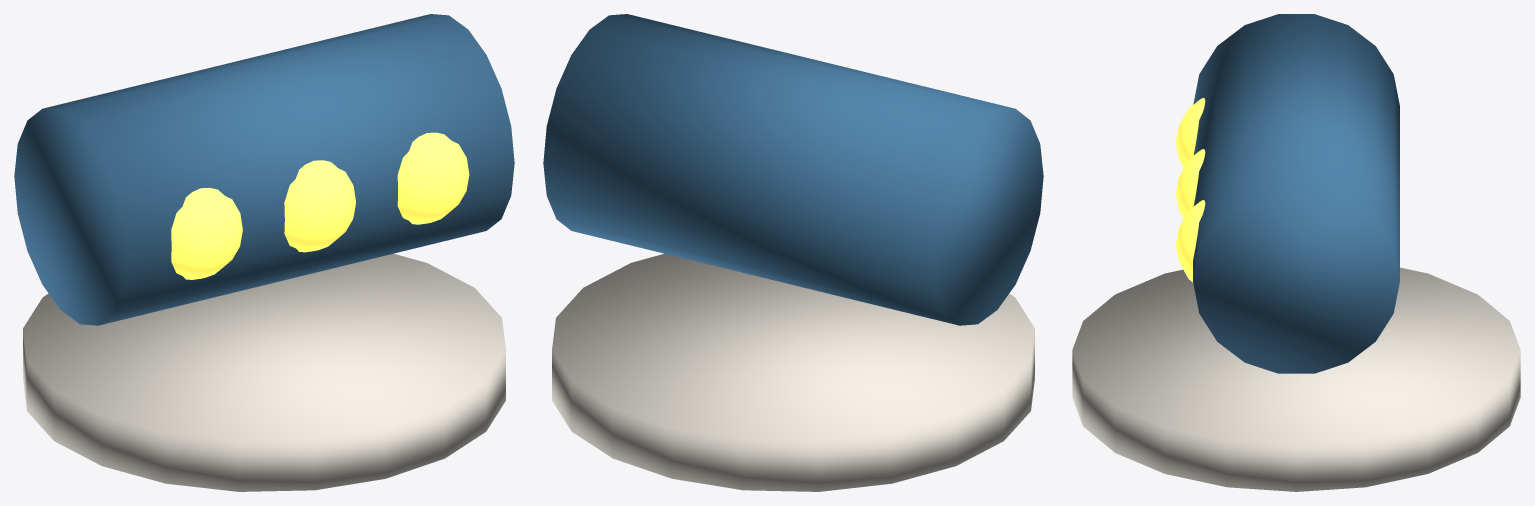
File: Diagram_QueueNode.fbx
3 renders of one model, left to right at view 1: azimuth 30°, elevation 25°; view 2: azimuth 150°, elevation 25°; view 3: azimuth 270°, elevation 25°, orthographic. The views are drawn at different scales.
Parts seen in each view (by area): view 1: Queue_Chute, Node_Plinth, Queue_Msg_2, Queue_Msg_3, Queue_Msg_1; view 2: Queue_Chute, Node_Plinth; view 3: Node_Plinth, Queue_Chute, Queue_Msg_3, Queue_Msg_1, Queue_Msg_2.
Part boxes in pixels (x1,y1,x2,y2): Queue_Chute: [14, 14, 514, 325]; Node_Plinth: [23, 253, 505, 491]; Queue_Msg_2: [284, 160, 355, 252]; Queue_Msg_3: [397, 132, 469, 224]; Queue_Msg_1: [171, 187, 242, 279]; Queue_Chute: [543, 14, 1043, 325]; Node_Plinth: [552, 253, 1034, 491]; Node_Plinth: [1072, 267, 1520, 491]; Queue_Chute: [1193, 14, 1399, 373]; Queue_Msg_3: [1175, 200, 1205, 282]; Queue_Msg_1: [1175, 98, 1205, 167]; Queue_Msg_2: [1175, 149, 1205, 218].
Size of the model in its own units: 5.2 by 3.78 by 5.2.
